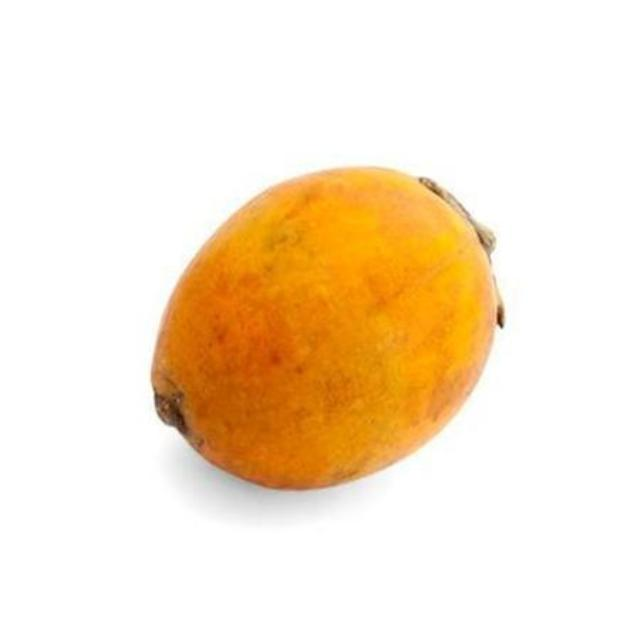good: (149, 167, 502, 492)
